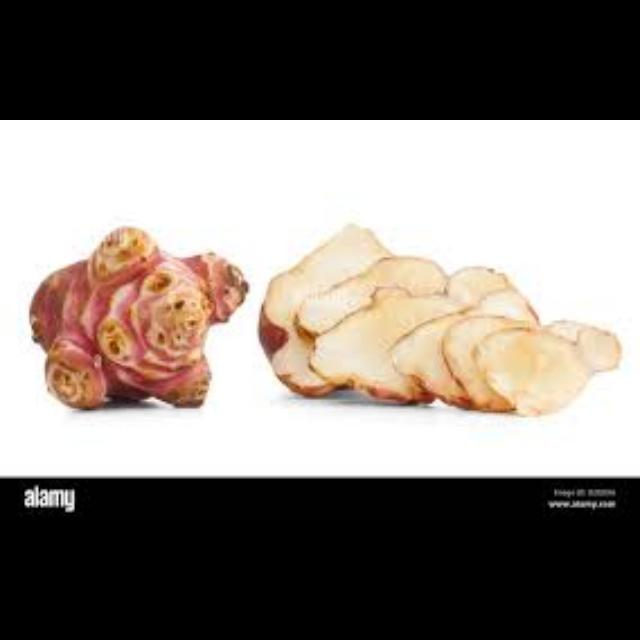Damaged potato: (256, 202, 628, 416), (28, 222, 252, 414)
